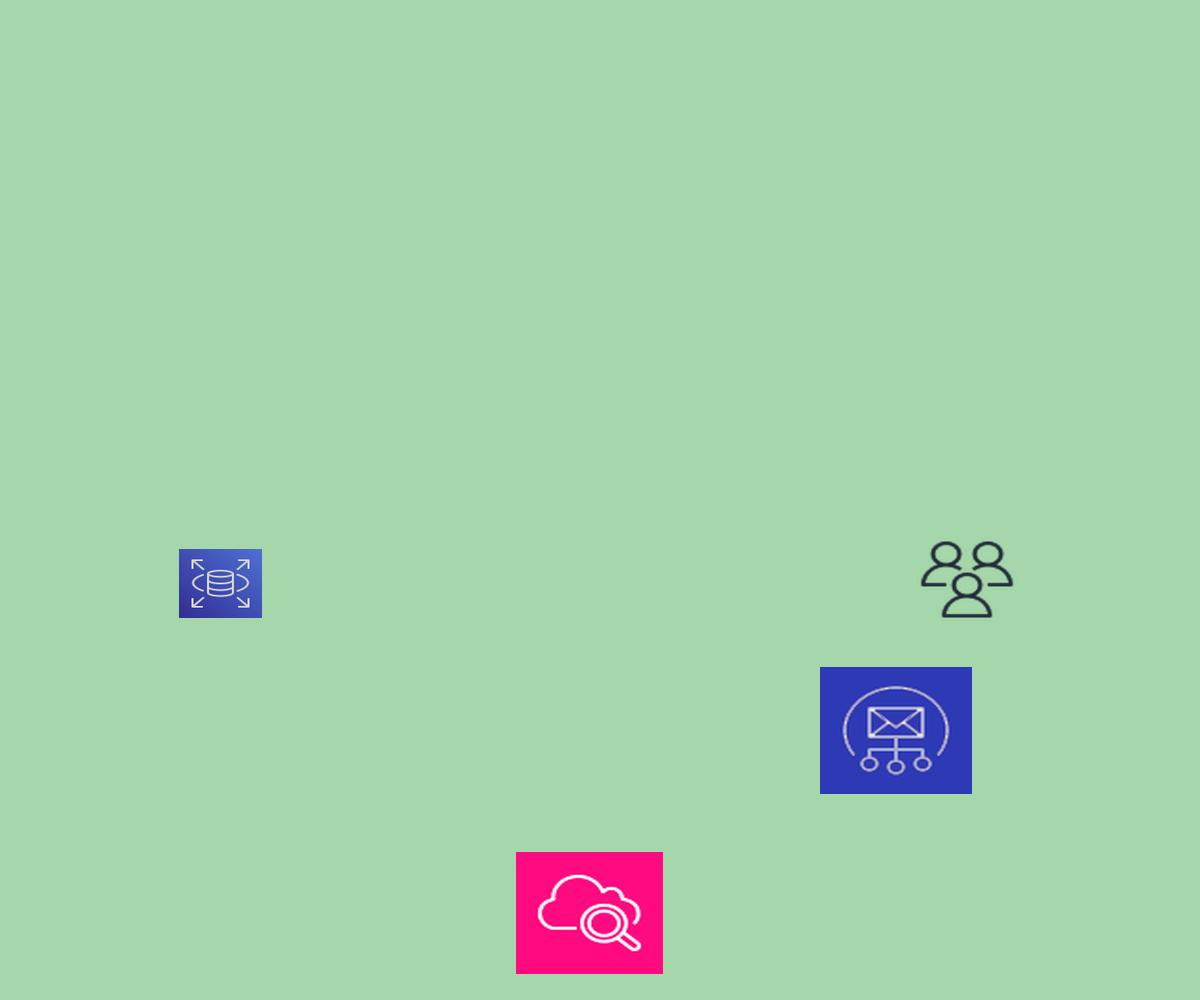AWS-CloudWatch: (516, 852, 663, 974)
AWS-RDS: (179, 549, 262, 618)
AWS-Res_Users: (917, 538, 1017, 621)
AWS-Simple-Email-Service: (820, 667, 972, 794)
